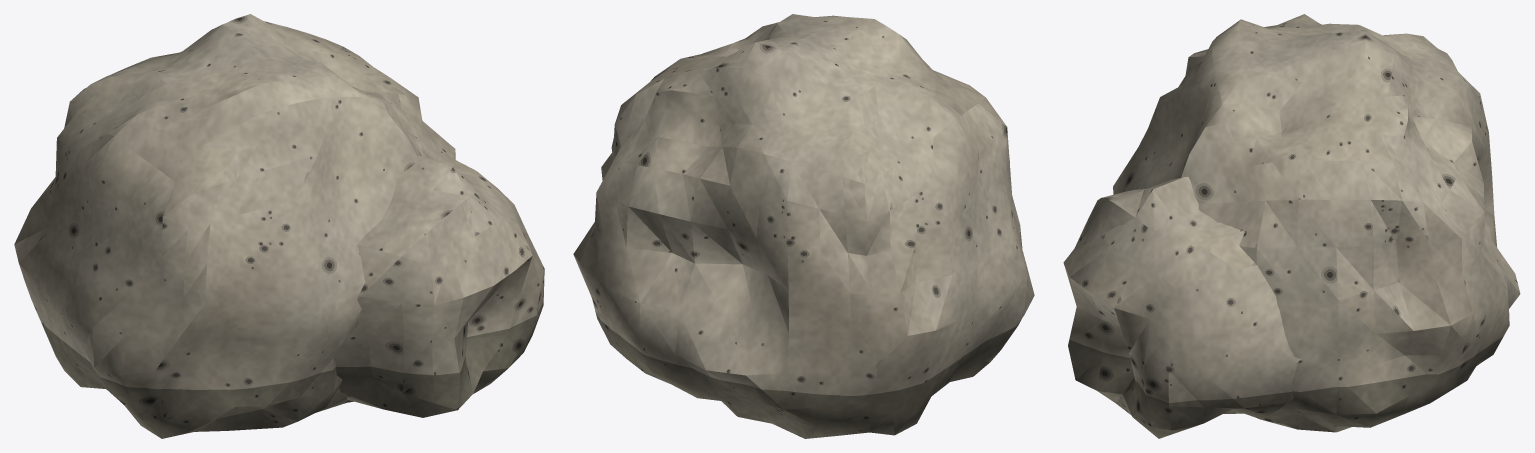
The picture shows the model from 3 angles, left to right: view 1: azimuth 30°, elevation 25°; view 2: azimuth 150°, elevation 25°; view 3: azimuth 270°, elevation 25°; orthographic projection.
Parts seen in each view (by area): view 1: rock, rock_wet; view 2: rock, rock_wet; view 3: rock, rock_wet.
Part boxes in pixels (x1,y1,x2,y2): rock: [14, 14, 544, 389]; rock_wet: [41, 303, 543, 438]; rock: [573, 14, 1034, 395]; rock_wet: [595, 310, 1021, 438]; rock: [1063, 14, 1520, 403]; rock_wet: [1068, 336, 1503, 438].
Bounding box in the file's own units: 1.88 × 1.6 × 1.77.
2 materials, 2 textured.
